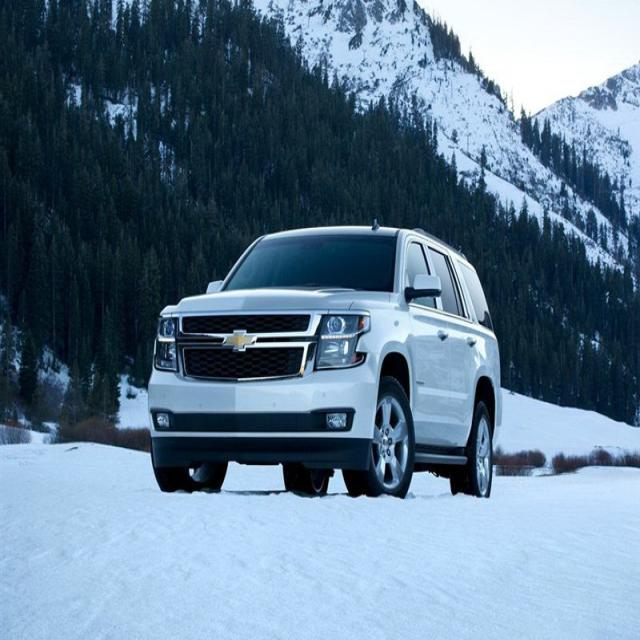door: (433, 246, 486, 456)
front_bumper: (146, 353, 382, 470)
front_glass: (219, 234, 400, 294)
front_left_side_door: (402, 232, 454, 453)
front_left_side_light: (314, 308, 371, 374)
front_left_side_mirror: (404, 276, 442, 302)
front_right_side_light: (152, 313, 182, 377)
front_right_side_mirror: (204, 280, 226, 296)
wheel: (341, 376, 414, 497), (449, 402, 493, 495)
